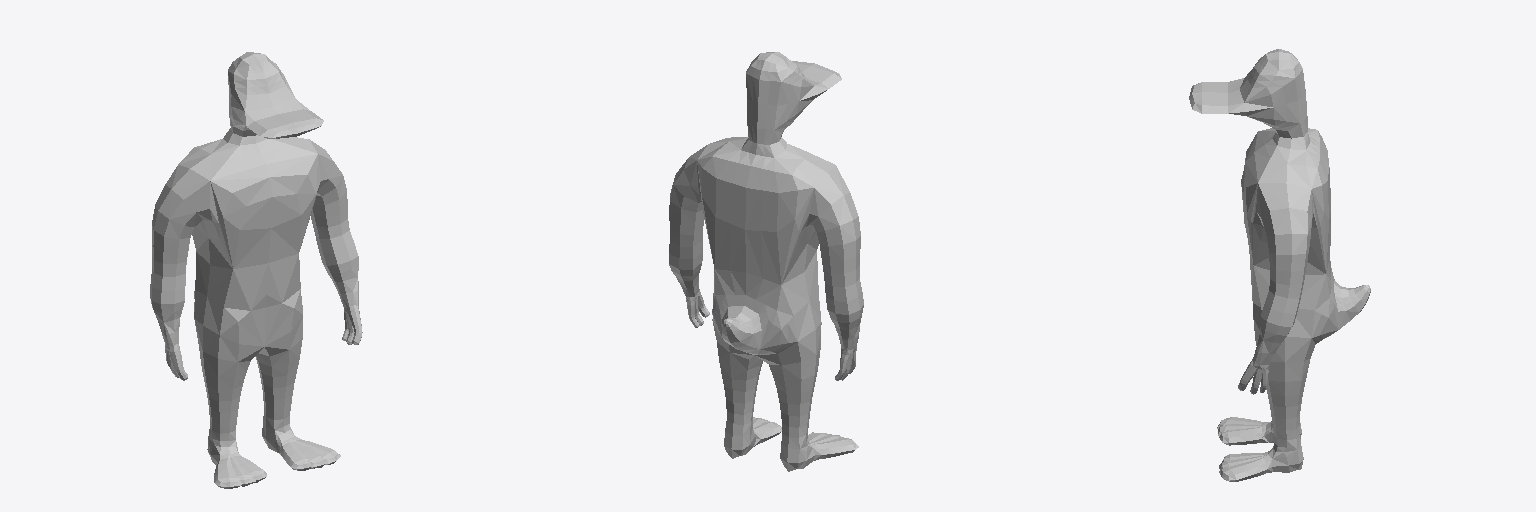
The model's file is canard_qui_salue_000002.obj.
3 renders of one model, left to right at view 1: azimuth 30°, elevation 25°; view 2: azimuth 150°, elevation 25°; view 3: azimuth 270°, elevation 25°, orthographic.
Visible parts, largest first — view 1: Cube; view 2: Cube; view 3: Cube.
Boxes of the visible parts, x1,y1,x2,y2 form: Cube: [150, 52, 362, 488]; Cube: [669, 52, 863, 471]; Cube: [1189, 49, 1370, 481].
Bounding box in the file's own units: 1.42 × 2.8 × 1.14.